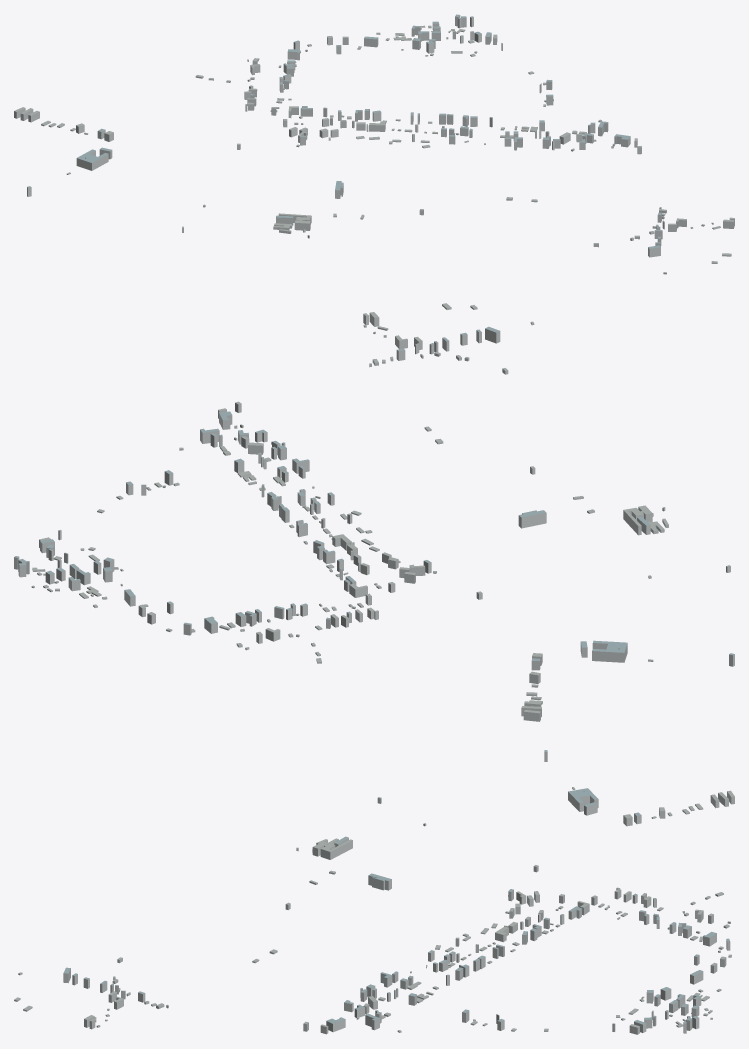
File: far.glb
3 views of the same model, one above another, from view 1: azimuth 30°, elevation 25°; view 2: azimuth 150°, elevation 25°; view 3: azimuth 270°, elevation 25° (orthographic). The views are drawn at different scales.
Size of the model in its own units: 1310 by 23.6 by 1452.
